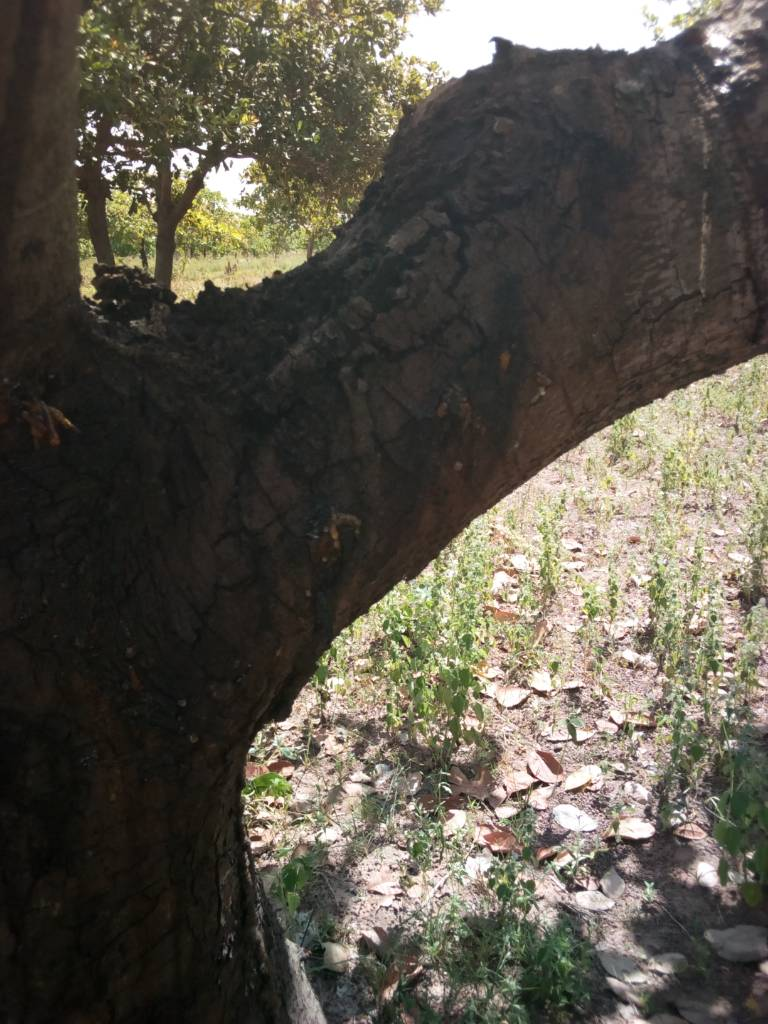Gommose: (111, 117, 535, 578), (11, 380, 260, 1024)
